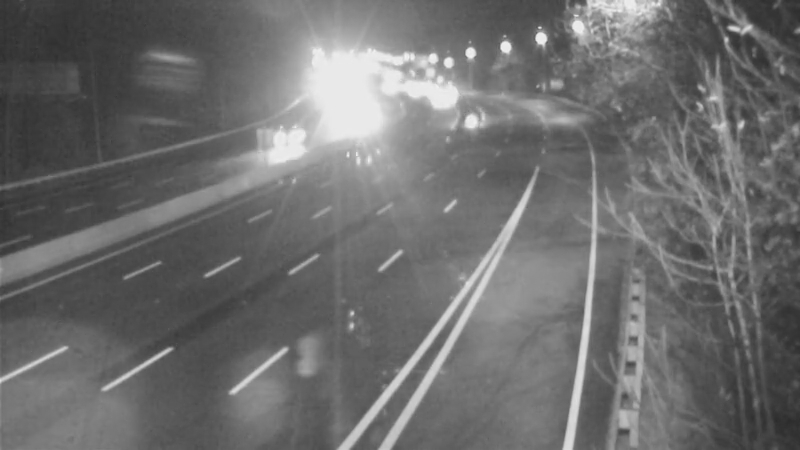vehicle: (413, 76, 463, 126), (442, 93, 492, 143), (266, 109, 316, 159)
